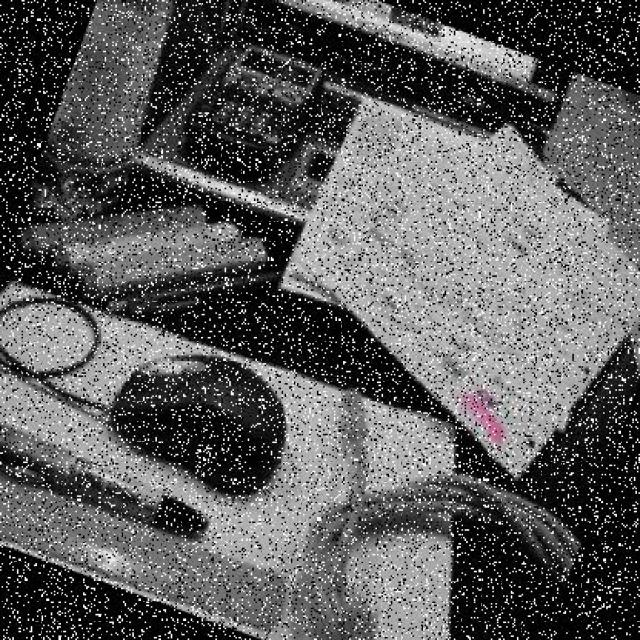mause: (47, 290, 364, 556)
